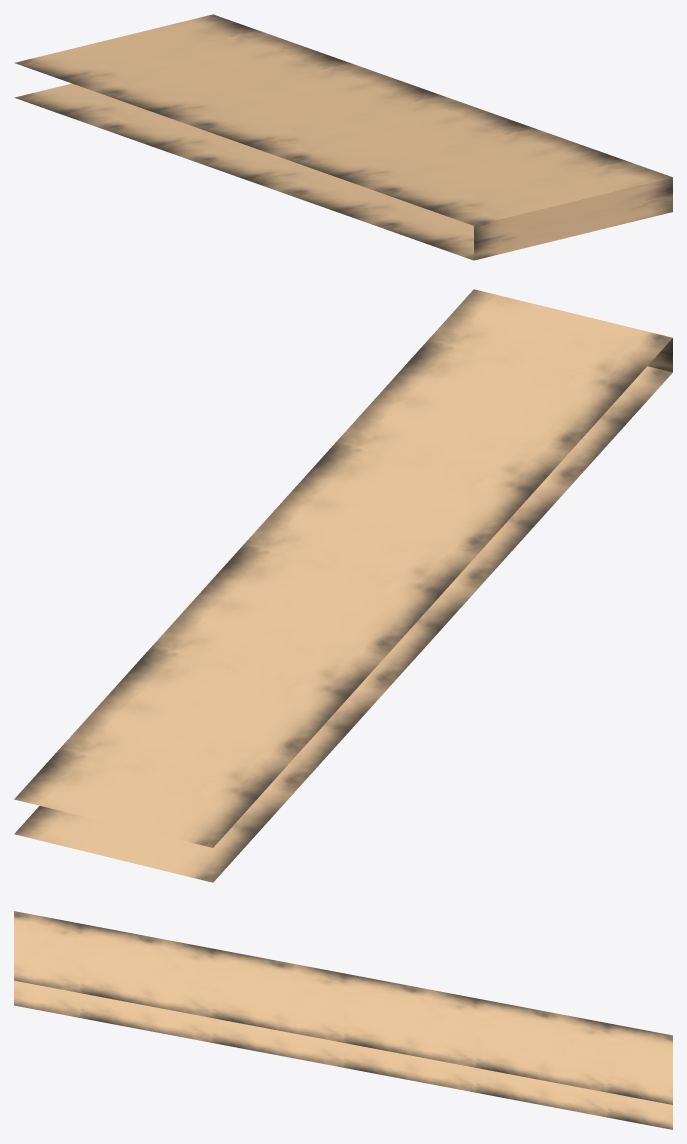
The model's file is CourseSummer_Floor_1.fbx.
3 renders of one model, top to bottom at view 1: azimuth 30°, elevation 25°; view 2: azimuth 150°, elevation 25°; view 3: azimuth 270°, elevation 25°, orthographic. The views are drawn at different scales.
Parts seen in each view (by area): view 1: polySurface4; view 2: polySurface4; view 3: polySurface4.
Part boxes in pixels (x1,y1,x2,y2): polySurface4: (14, 14, 672, 260); polySurface4: (14, 289, 672, 882); polySurface4: (14, 911, 672, 1129).
Size of the model in its own units: 6 by 6 by 24.
1 material, 1 textured.
